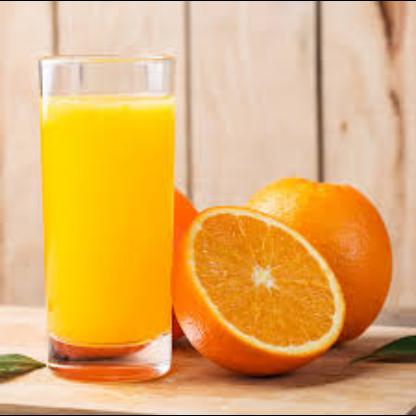orange juice: (37, 90, 176, 350)
